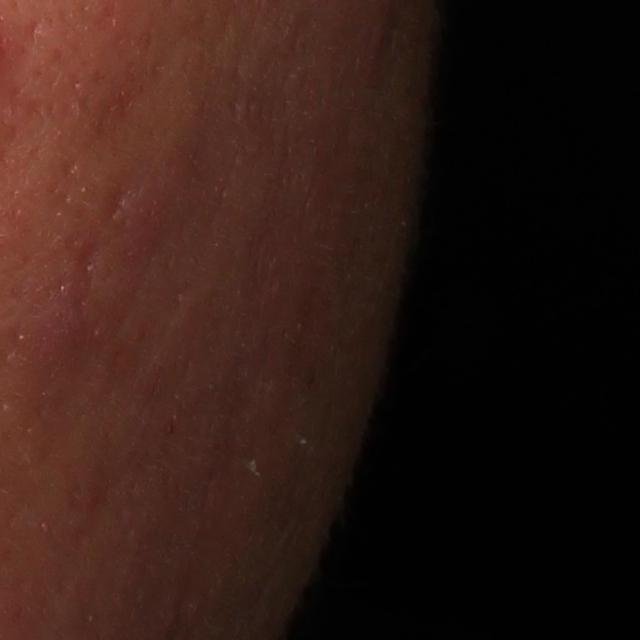atrophic_scar: (105, 184, 129, 222)
